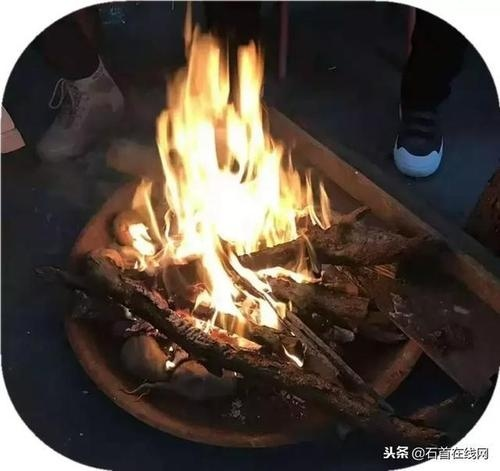fire: (129, 16, 312, 281)
